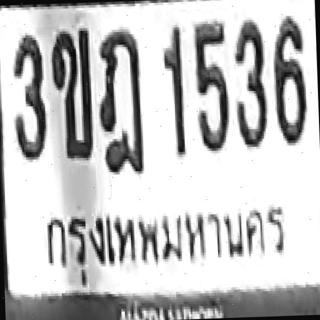A02: (50, 27, 92, 160)
A14: (96, 27, 144, 173)
N01: (160, 25, 186, 157)
N03: (9, 32, 46, 160), (232, 18, 268, 148)
N05: (192, 20, 230, 151)
N06: (271, 14, 307, 144)
P04: (39, 193, 294, 294)
